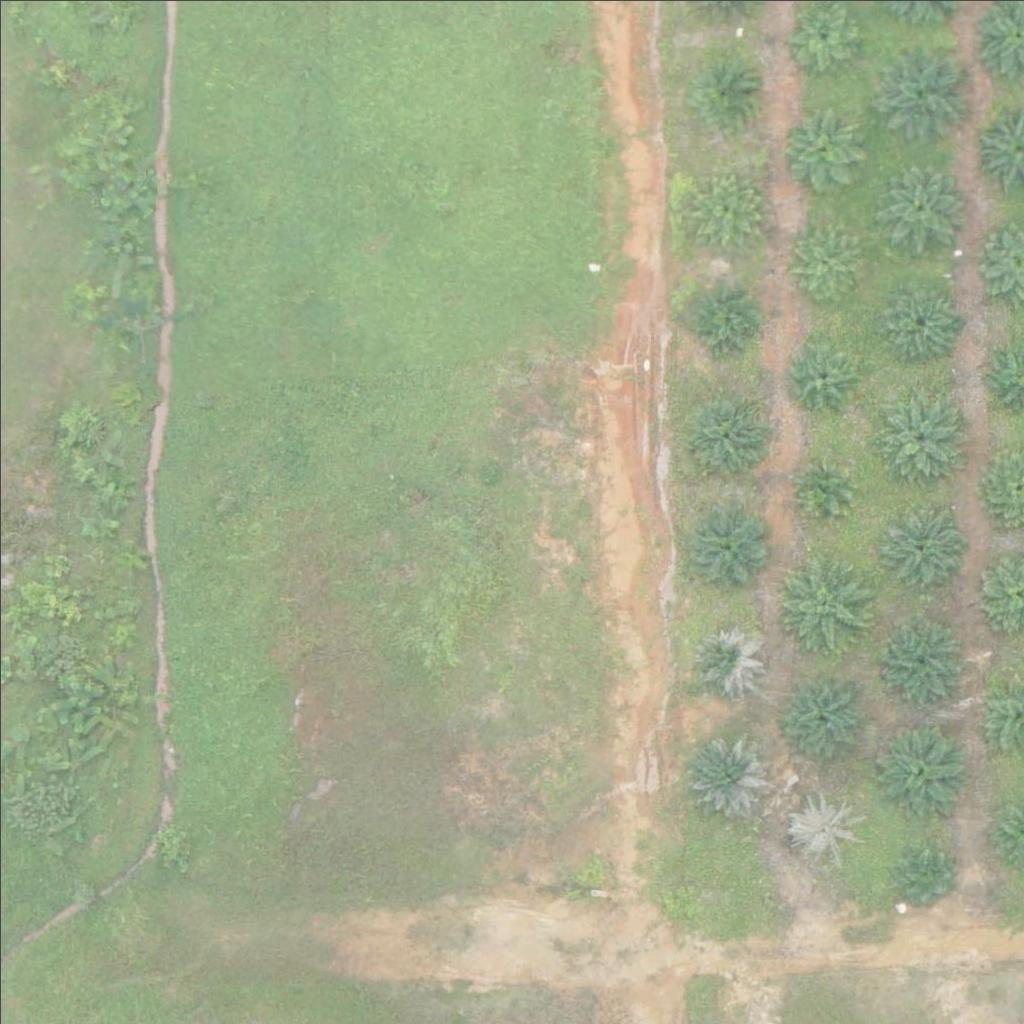Kelapa_Sawit: (875, 39, 975, 140), (868, 719, 968, 819), (769, 665, 869, 765), (769, 551, 869, 651), (872, 273, 960, 362), (685, 729, 773, 817), (683, 499, 771, 587), (682, 388, 770, 476), (877, 160, 965, 248), (782, 107, 869, 195), (876, 614, 963, 702), (877, 498, 964, 586), (876, 388, 963, 476), (787, 790, 862, 866), (686, 620, 761, 696), (781, 336, 856, 411), (691, 173, 766, 248), (684, 281, 759, 356), (789, 225, 864, 300), (698, 62, 761, 125), (791, 453, 854, 516), (896, 844, 958, 906)
